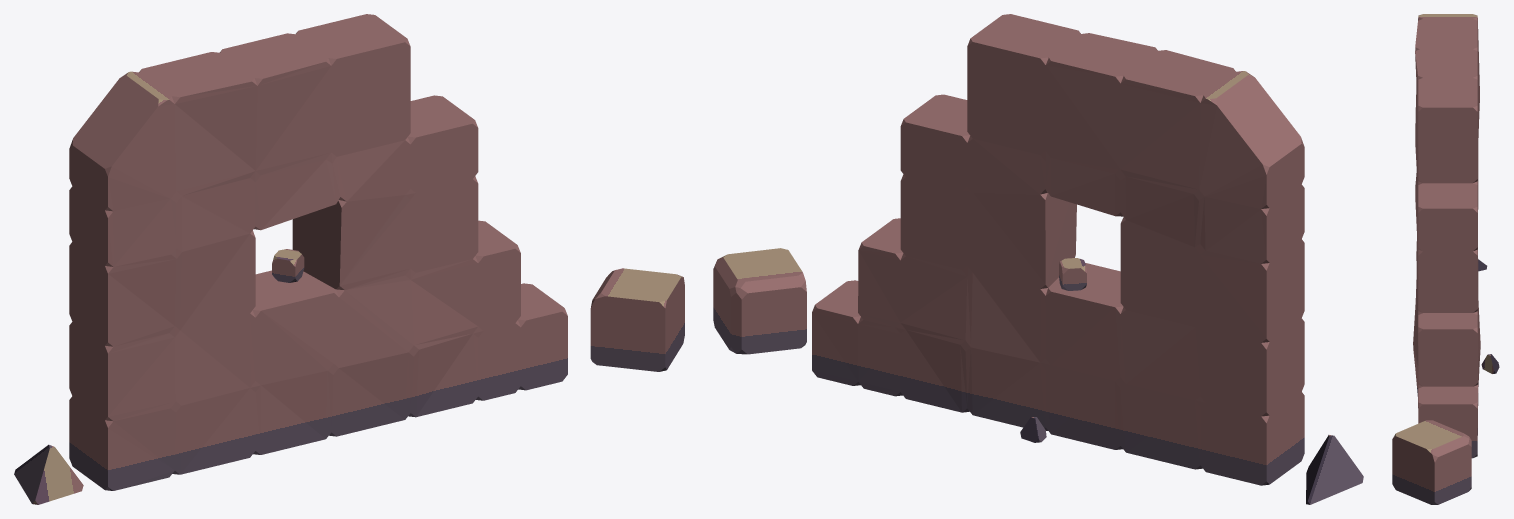
File: Stand Alone Wall.002.fbx
3 renders of one model, left to right at view 1: azimuth 30°, elevation 25°; view 2: azimuth 150°, elevation 25°; view 3: azimuth 270°, elevation 25°, orthographic. The views are drawn at different scales.
Visible parts, largest first — view 1: Stand Alone Wall.002; view 2: Stand Alone Wall.002; view 3: Stand Alone Wall.002.
Part boxes in pixels (<box>): Stand Alone Wall.002: <box>14,14,684,504</box>; Stand Alone Wall.002: <box>713,14,1363,504</box>; Stand Alone Wall.002: <box>1392,14,1499,504</box>.
Size of the model in its own units: 950 by 526 by 174.
